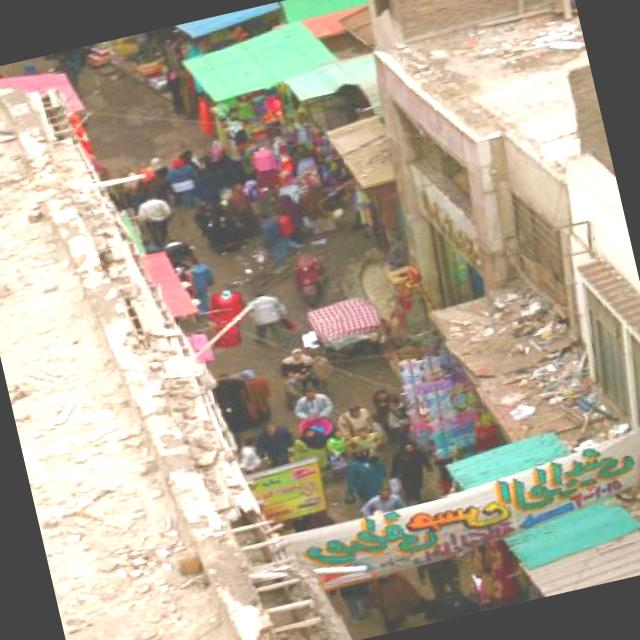Person: (73, 0, 528, 640), (285, 383, 339, 428)
